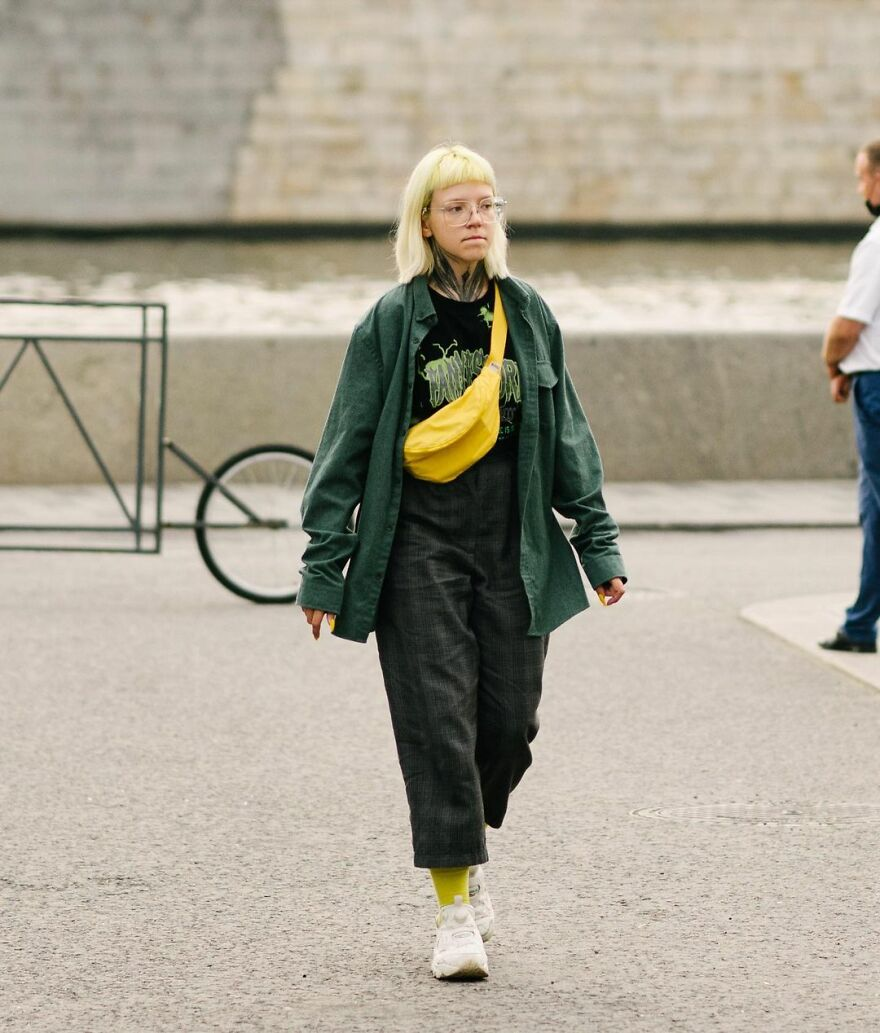person: (290, 138, 630, 992)
